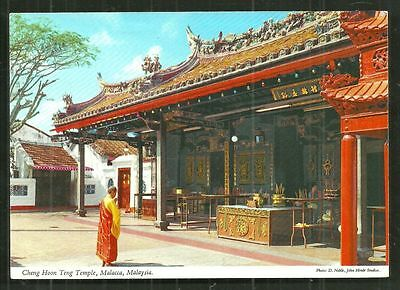Buddhist Temple: (49, 16, 389, 233)
